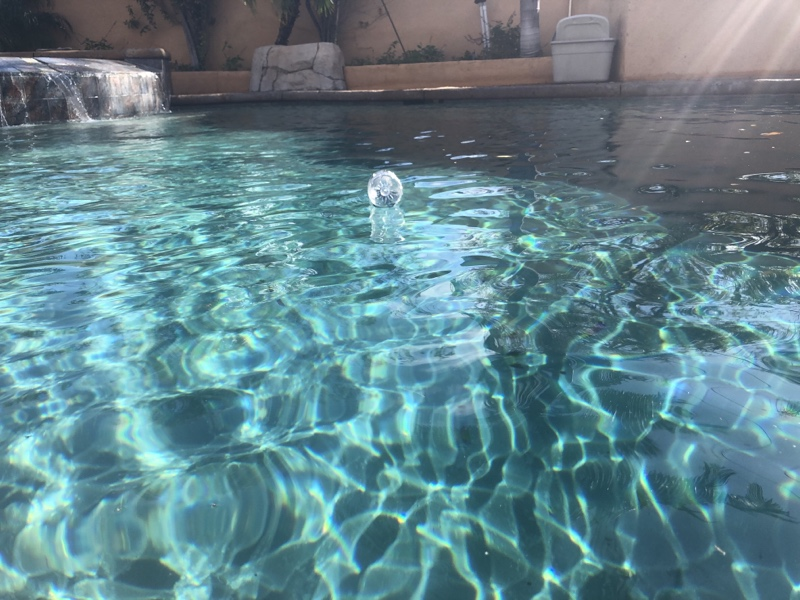Plastic Bottle: (364, 167, 404, 209)
